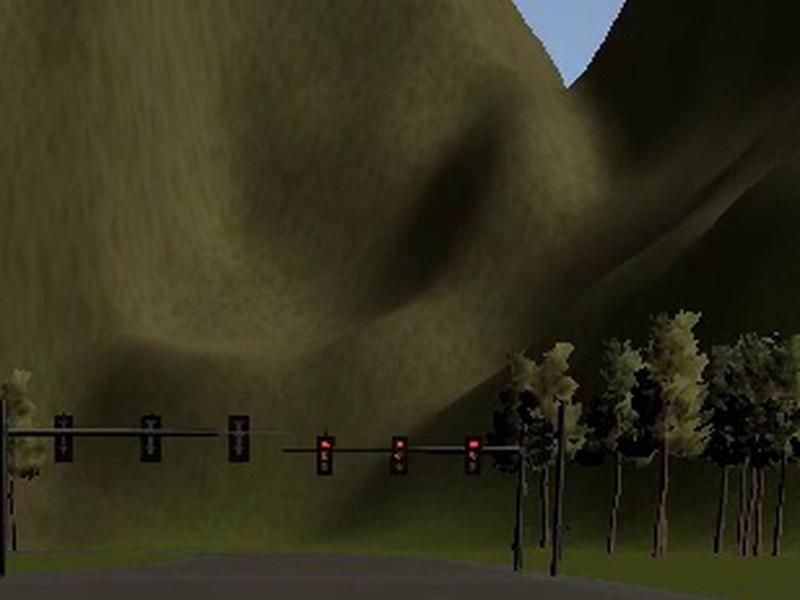Red: (464, 436, 483, 477), (316, 436, 334, 476), (391, 435, 408, 475)
